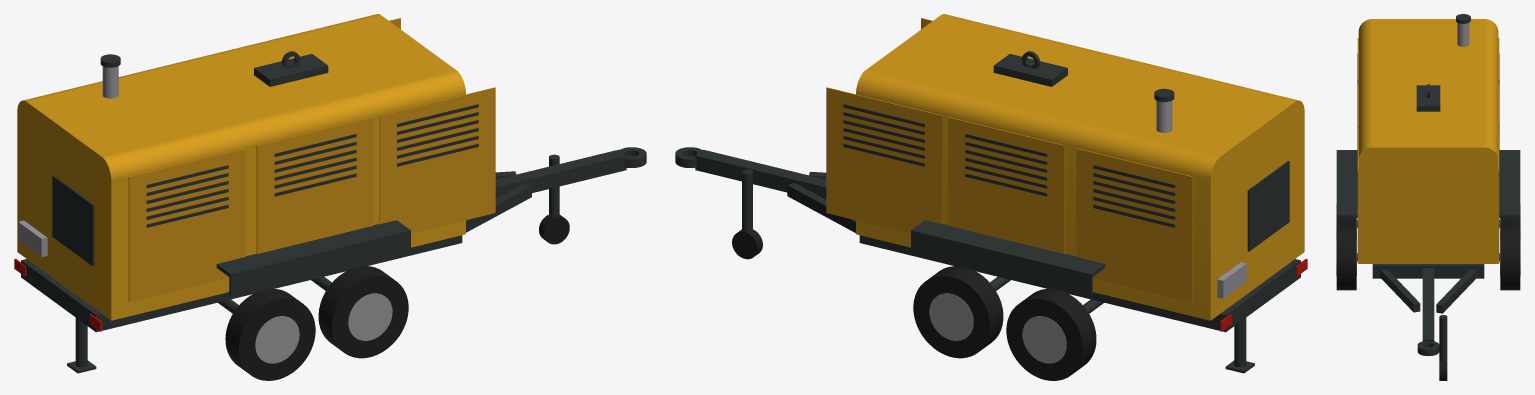
File: Towable_Air_Compressor.glb
The picture shows the model from 3 angles, left to right: view 1: azimuth 30°, elevation 25°; view 2: azimuth 150°, elevation 25°; view 3: azimuth 270°, elevation 25°; orthographic projection. The views are drawn at different scales.
Parts seen in each view (by area): view 1: canopy_e34bd9, door_350_-1_503146, jockey_post_de928b, jockey_wheel_9ea604, exhaust_pipe_70c36b; view 2: canopy_e34bd9, door_350_-1_503146, jockey_post_de928b, jockey_wheel_9ea604, exhaust_pipe_70c36b; view 3: canopy_e34bd9, jockey_post_de928b, jockey_wheel_9ea604, door_350_-1_503146, exhaust_pipe_70c36b.
Boxes of the visible parts, left/top/right/bottom form: canopy_e34bd9: left=17, top=14, right=465, bottom=320; door_350_-1_503146: left=128, top=18, right=495, bottom=302; jockey_post_de928b: left=21, top=51, right=646, bottom=373; jockey_wheel_9ea604: left=225, top=214, right=569, bottom=380; exhaust_pipe_70c36b: left=18, top=66, right=392, bottom=363; canopy_e34bd9: left=856, top=14, right=1304, bottom=320; door_350_-1_503146: left=826, top=18, right=1193, bottom=302; jockey_post_de928b: left=675, top=51, right=1300, bottom=373; jockey_wheel_9ea604: left=732, top=229, right=1096, bottom=380; exhaust_pipe_70c36b: left=929, top=100, right=1246, bottom=363; canopy_e34bd9: left=1358, top=19, right=1498, bottom=263; jockey_post_de928b: left=1336, top=14, right=1520, bottom=362; jockey_wheel_9ea604: left=1336, top=218, right=1520, bottom=380; door_350_-1_503146: left=1357, top=38, right=1499, bottom=263; exhaust_pipe_70c36b: left=1336, top=23, right=1520, bottom=275.
Bounding box in the file's own units: 101 × 45.8 × 36.92.
